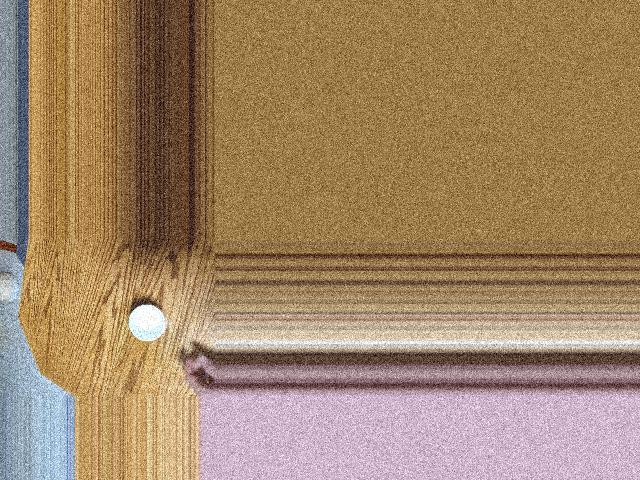cotage: (125, 304, 172, 345)
